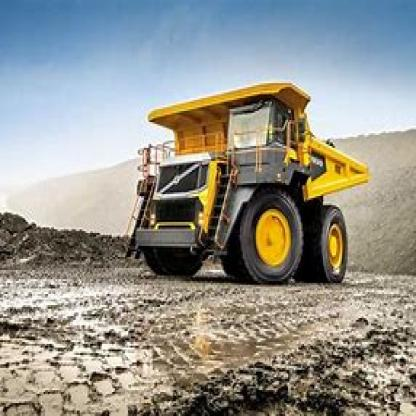dump_truck: (123, 76, 372, 292)
